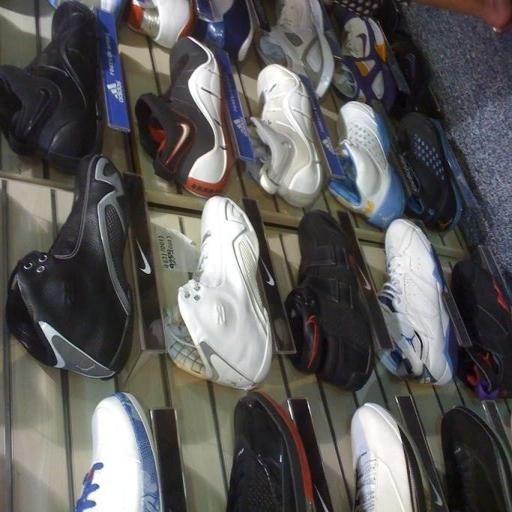shoe: (6, 155, 134, 379), (166, 196, 272, 389), (0, 2, 102, 172), (285, 211, 373, 391), (135, 37, 229, 197), (378, 219, 457, 385), (75, 392, 163, 512), (226, 392, 314, 512), (251, 64, 322, 207), (328, 101, 406, 228), (451, 259, 512, 399), (351, 403, 428, 512), (398, 112, 462, 230), (257, 0, 334, 98), (441, 406, 512, 512), (333, 9, 396, 110), (391, 31, 442, 119), (194, 0, 254, 62), (126, 0, 196, 48), (48, 0, 127, 19)
